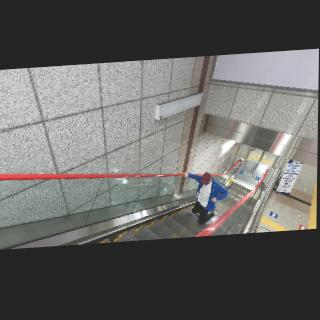anomaly: (180, 168, 226, 227)
